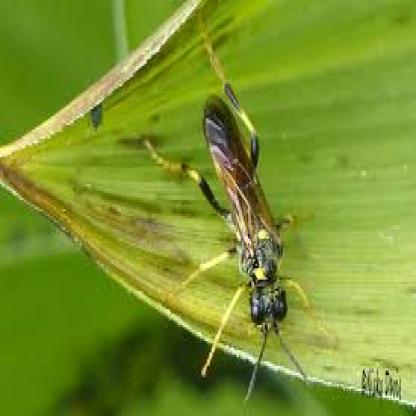sawfly: (142, 21, 322, 408)
